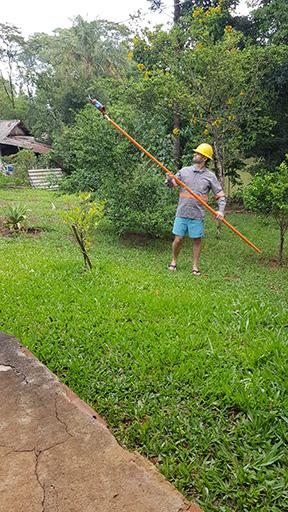Capacete: (191, 142, 213, 168)
Detector_Tensao_Contato: (86, 94, 107, 117)
Vara_Manobra: (103, 113, 263, 255)
